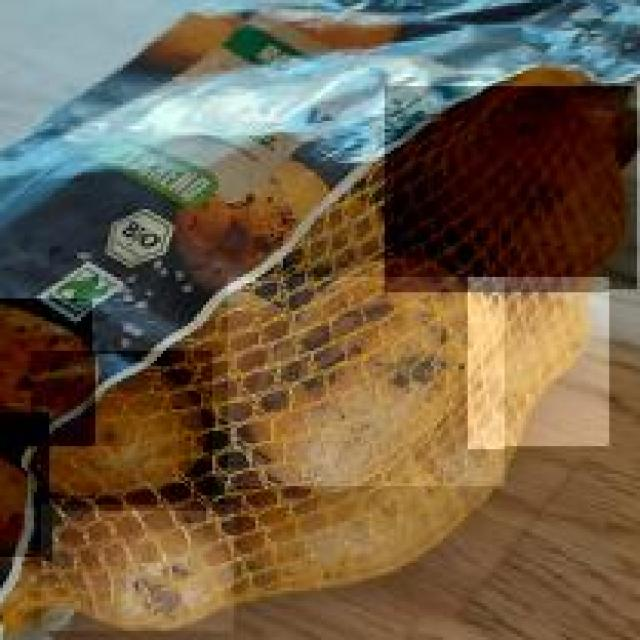potato: (228, 277, 508, 489), (384, 87, 640, 293), (29, 352, 217, 512), (41, 504, 238, 634), (468, 278, 612, 448), (0, 298, 95, 446), (0, 412, 52, 559)
